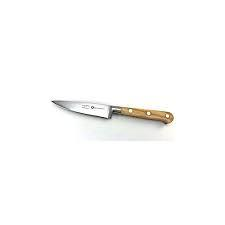Knife: (51, 99, 174, 124)
